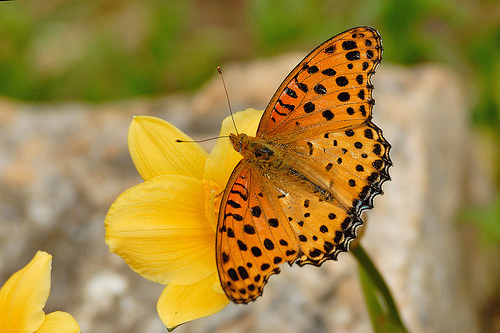Argyreus hyperbius: (168, 20, 395, 305)
butterfly: (170, 22, 397, 307)
